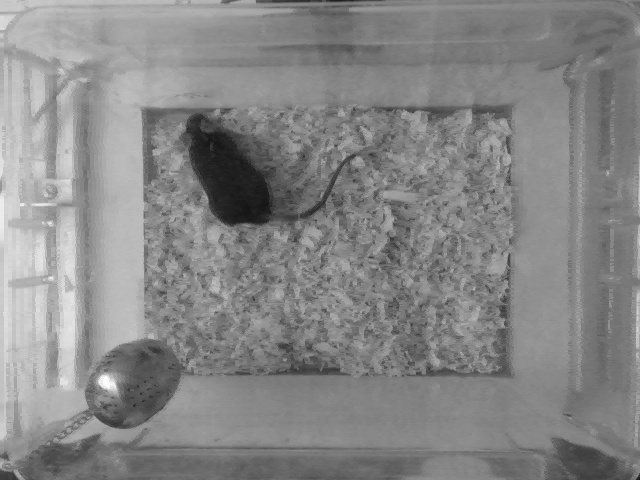mice: (181, 110, 376, 224)
